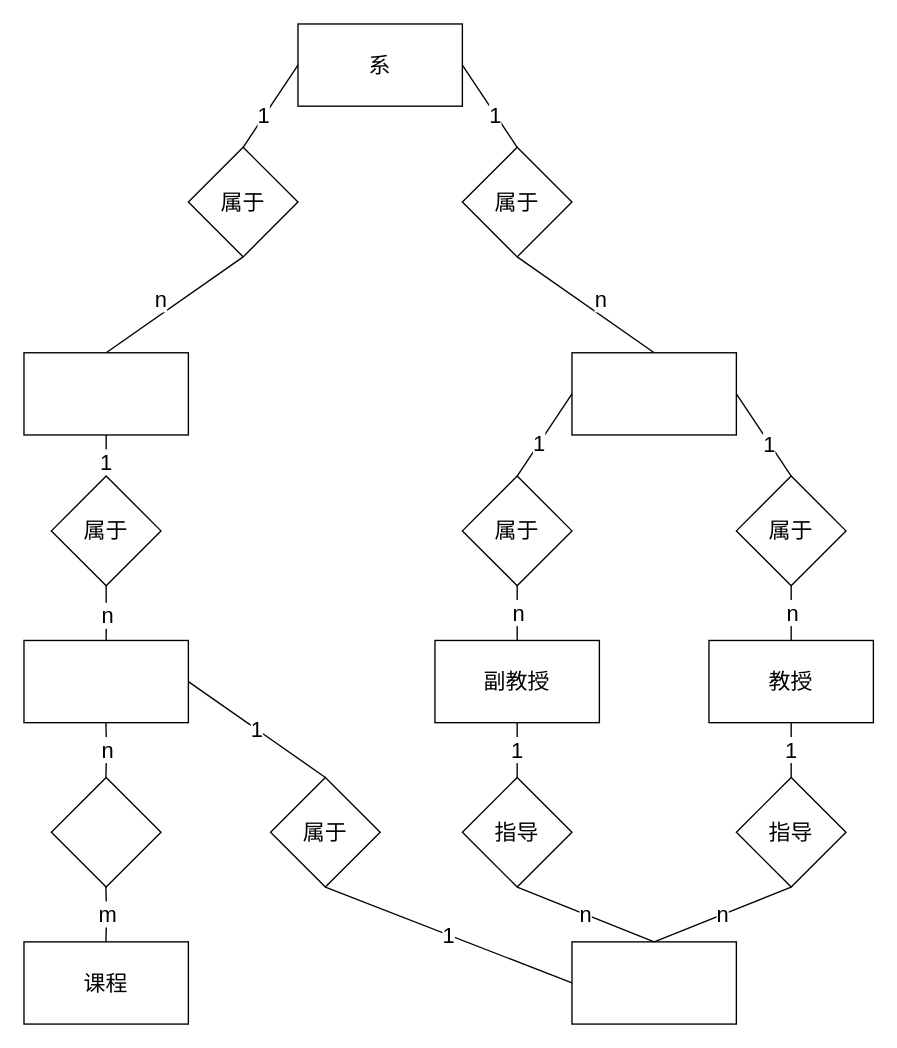
Some shapes in this 897 by 1048 pixel diagram are drawn without their labels. The centre of each missing label's shape, as x and y in pixels:
学生: the point at 105,681
教研室: the point at 653,393
班级: the point at 105,393
研究生: the point at 653,982
选修: the point at 105,831
